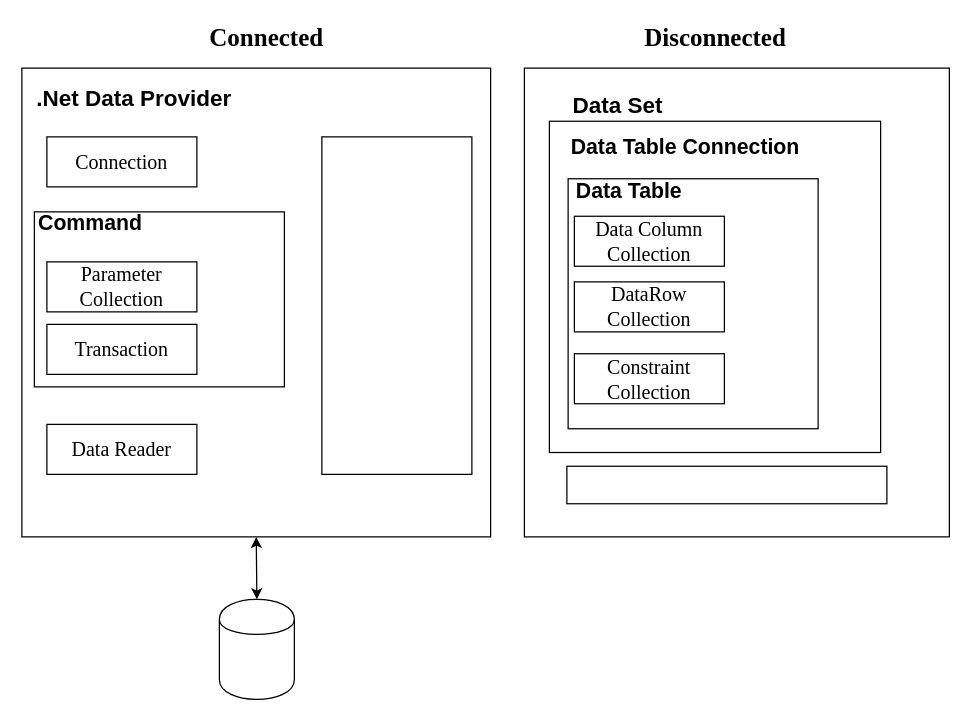
The diagram is 971 pixels wide and 721 high, and some of its shapes have lost their labels. The centre of each missing label's shape, as x and y in pixels:
Data Adapter: [396,305]
Data Relation Collection: [726,484]
Data Source: [256,648]
